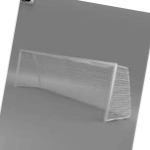goals: (13, 48, 133, 123)
